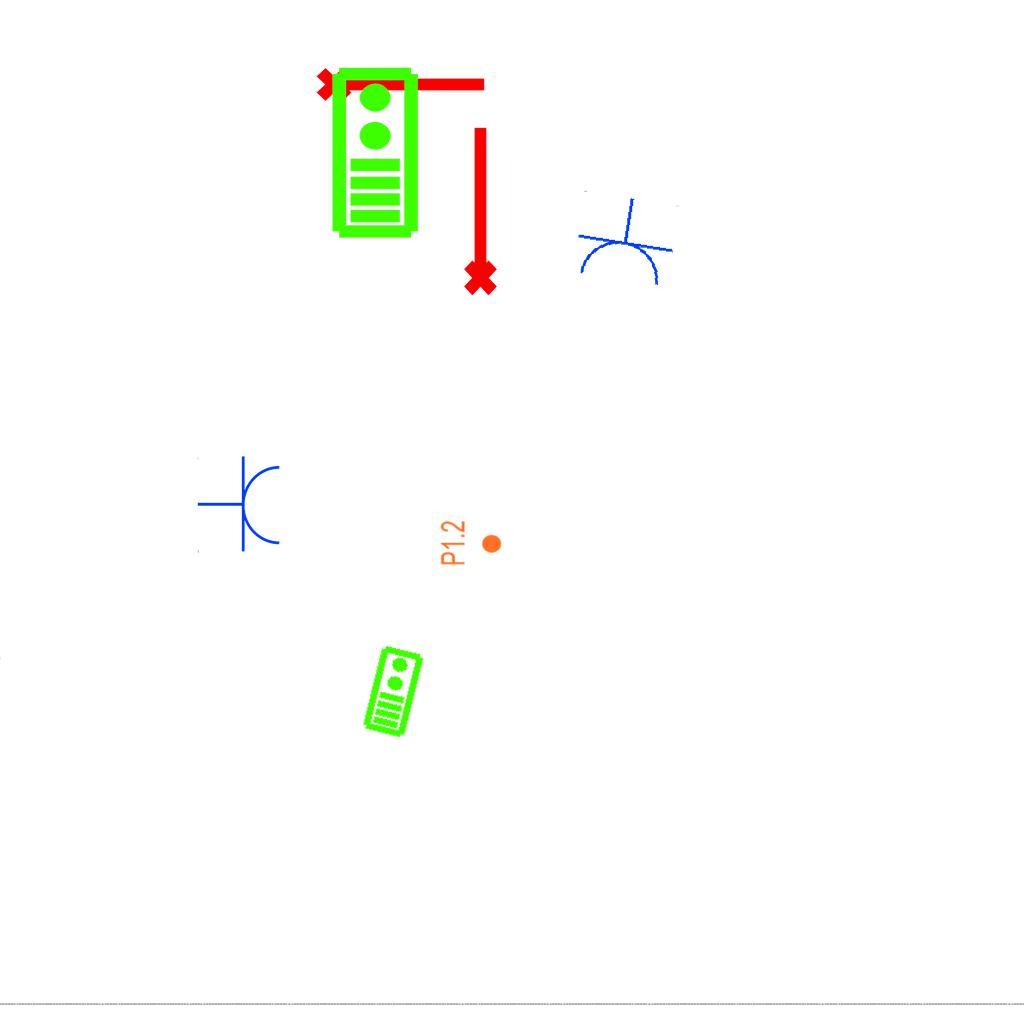ASR_Ansaugoeffnung: (314, 59, 490, 105), (455, 122, 501, 298)
Downlight_LED_Einbauleuchten_Flur: (439, 520, 503, 566)
Gegensprechanlage_mit_Video: (326, 64, 421, 240), (359, 642, 426, 740)
Schukosteckdose_einfach: (568, 189, 682, 292), (197, 455, 284, 555)
